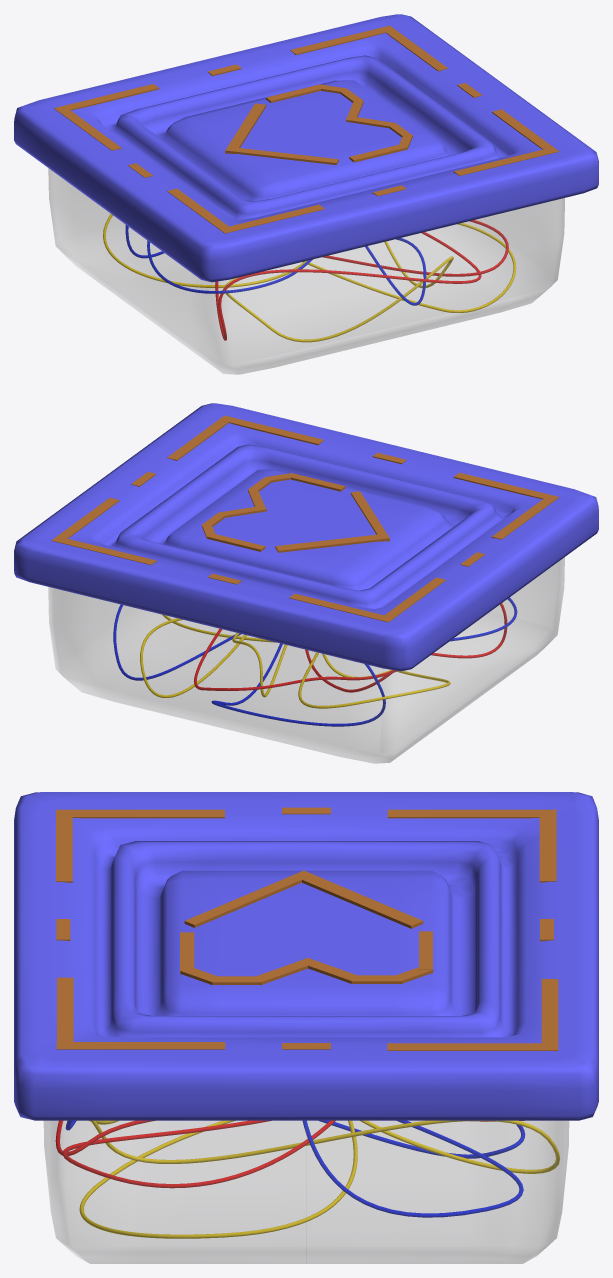
The model's file is synthcsom.glb.
3 views of the same model, one above another, from view 1: azimuth 30°, elevation 25°; view 2: azimuth 150°, elevation 25°; view 3: azimuth 270°, elevation 25° (orthographic). The views are drawn at different scales.
Parts seen in each view (by area): view 1: Lid, Box, Cable_01, Cable_03, Cable_02, Stripe_10, Stripe_20, Stripe_22, Stripe_14, Stripe_16, Stripe_09, Stripe_11 (+3 smaller); view 2: Lid, Box, Cable_01, Cable_02, Cable_03, Stripe_09, Stripe_14, Stripe_16, Stripe_22, Stripe_20, Stripe_19, Stripe_11 (+3 smaller); view 3: Lid, Box, Cable_01, Cable_03, Cable_02, Stripe_19, Stripe_09, Stripe_17, Stripe_10, Stripe_11, Stripe_22, Stripe_13 (+3 smaller).
Boxes of the visible parts, x1,y1,x2,y2 form: Lid: [14, 14, 598, 282]; Box: [48, 168, 564, 374]; Cable_01: [103, 214, 516, 342]; Cable_03: [215, 220, 508, 340]; Cable_02: [125, 225, 426, 305]; Stripe_10: [225, 147, 338, 164]; Stripe_20: [54, 84, 159, 112]; Stripe_22: [290, 25, 394, 54]; Stripe_14: [453, 147, 558, 175]; Stripe_16: [220, 204, 324, 233]; Stripe_09: [227, 103, 266, 151]; Stripe_11: [385, 26, 447, 71]; Lid: [14, 403, 598, 671]; Box: [48, 557, 564, 763]; Cable_01: [140, 614, 450, 708]; Cable_02: [113, 597, 517, 726]; Cable_03: [194, 603, 507, 692]; Stripe_09: [275, 534, 389, 552]; Stripe_14: [219, 415, 323, 445]; Stripe_16: [453, 472, 558, 500]; Stripe_22: [51, 536, 156, 564]; Stripe_20: [289, 593, 394, 622]; Stripe_19: [379, 577, 445, 621]; Stripe_11: [52, 498, 119, 541]; Lid: [14, 792, 598, 1120]; Box: [43, 1120, 569, 1263]; Cable_01: [79, 1120, 560, 1238]; Cable_03: [55, 1120, 524, 1188]; Cable_02: [65, 1120, 525, 1217]; Stripe_19: [387, 809, 556, 818]; Stripe_09: [292, 871, 423, 928]; Stripe_17: [56, 809, 224, 818]; Stripe_10: [184, 870, 312, 927]; Stripe_11: [387, 1043, 555, 1050]; Stripe_22: [541, 979, 558, 1050]; Stripe_13: [56, 1042, 225, 1049].
Size of the model in its own units: 9.6 by 3.79 by 8.33.
